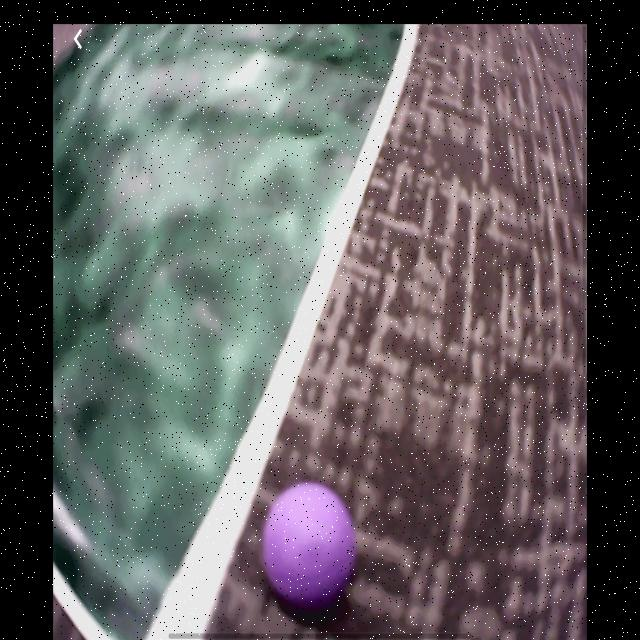ball: (265, 486, 353, 598)
